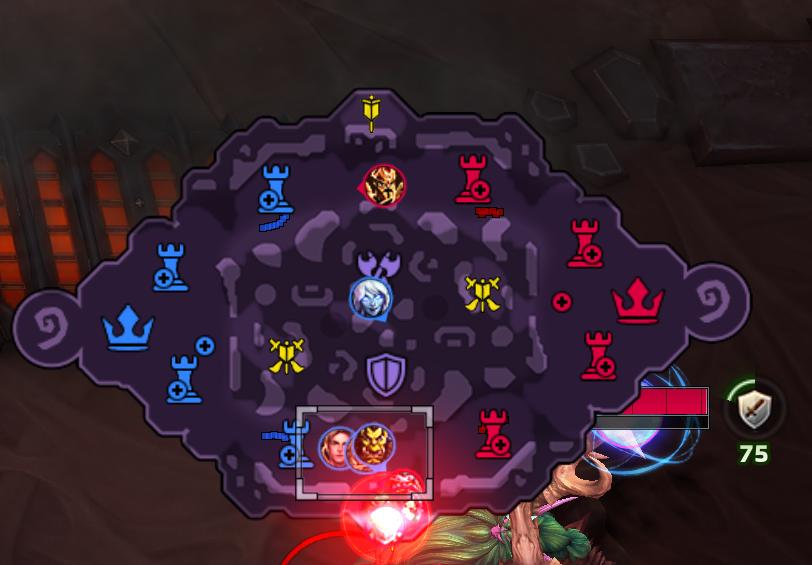blue nexus: (100, 302, 155, 351)
blue player: (348, 422, 395, 471), (348, 275, 392, 320), (317, 426, 356, 470)
blue tower: (164, 352, 204, 404), (256, 163, 294, 217), (151, 240, 190, 292)
red nexus: (610, 275, 665, 325)
red player: (358, 163, 405, 208)
red tower: (578, 328, 618, 381), (473, 407, 512, 459), (565, 217, 604, 268), (453, 152, 490, 205)
